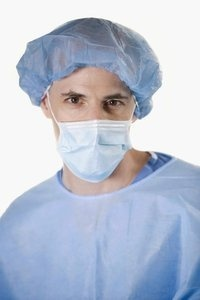correctlyWear: (38, 69, 140, 183)
